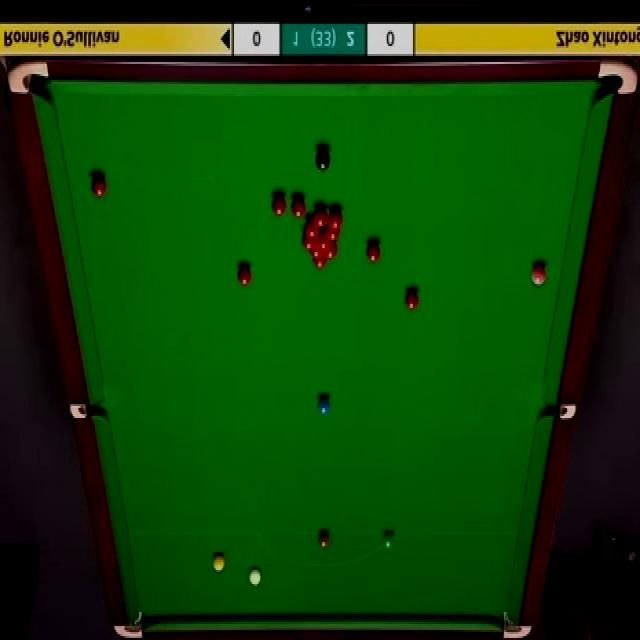black-ball: (315, 144, 331, 174)
blue-ball: (316, 394, 332, 416)
brown-ball: (317, 530, 330, 550)
green-ball: (382, 531, 395, 550)
pink-ball: (531, 262, 547, 288)
red-ball: (290, 192, 307, 220), (235, 262, 252, 289), (90, 172, 107, 198), (270, 194, 286, 218), (328, 205, 343, 230), (366, 240, 381, 264), (405, 288, 420, 312), (304, 218, 319, 239), (314, 205, 328, 227), (323, 241, 338, 260), (302, 234, 316, 252), (317, 232, 331, 250), (325, 228, 342, 241), (313, 258, 328, 269), (308, 249, 324, 259)
white-ball: (249, 567, 262, 589)
yellow-ball: (211, 552, 225, 573)
